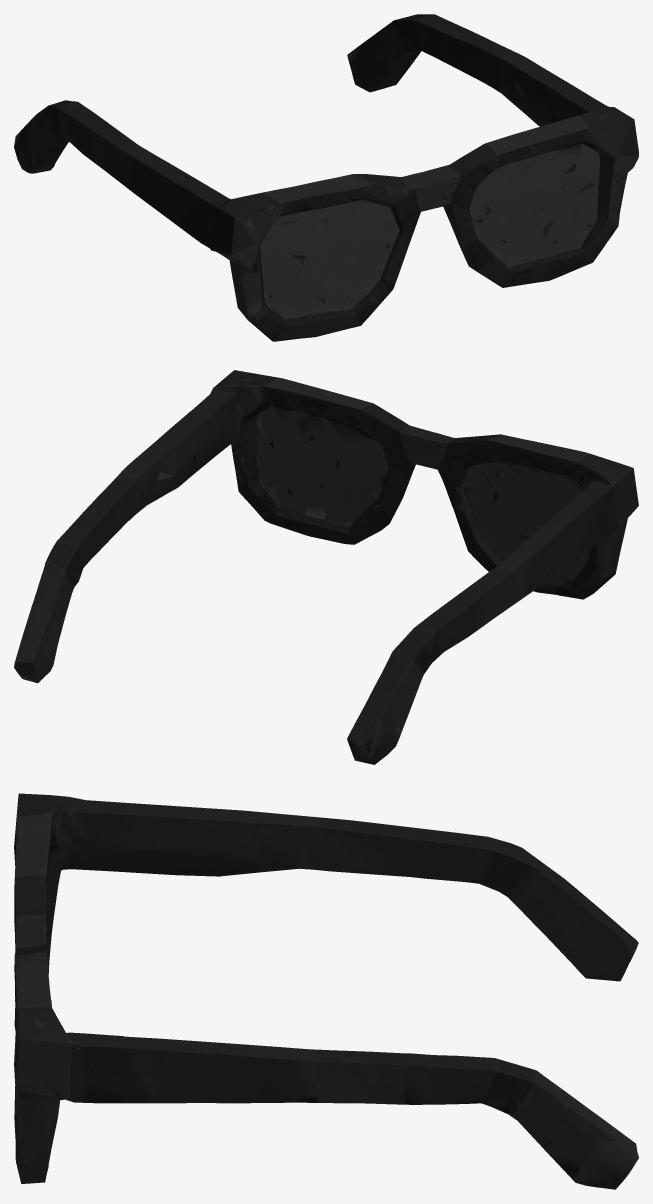
File: cos-shades.glb
The picture shows the model from 3 angles, top to bottom: view 1: azimuth 30°, elevation 25°; view 2: azimuth 150°, elevation 25°; view 3: azimuth 270°, elevation 25°; orthographic projection. The views are drawn at different scales.
Visible parts, largest first — view 1: output_unwrapped; view 2: output_unwrapped; view 3: output_unwrapped.
Part boxes in pixels (bbox=[...]): output_unwrapped: bbox=[14, 14, 638, 341]; output_unwrapped: bbox=[14, 370, 638, 764]; output_unwrapped: bbox=[14, 793, 638, 1189].
Size of the model in its own units: 1.82 by 0.6206 by 1.9.
1 material, 1 textured.
